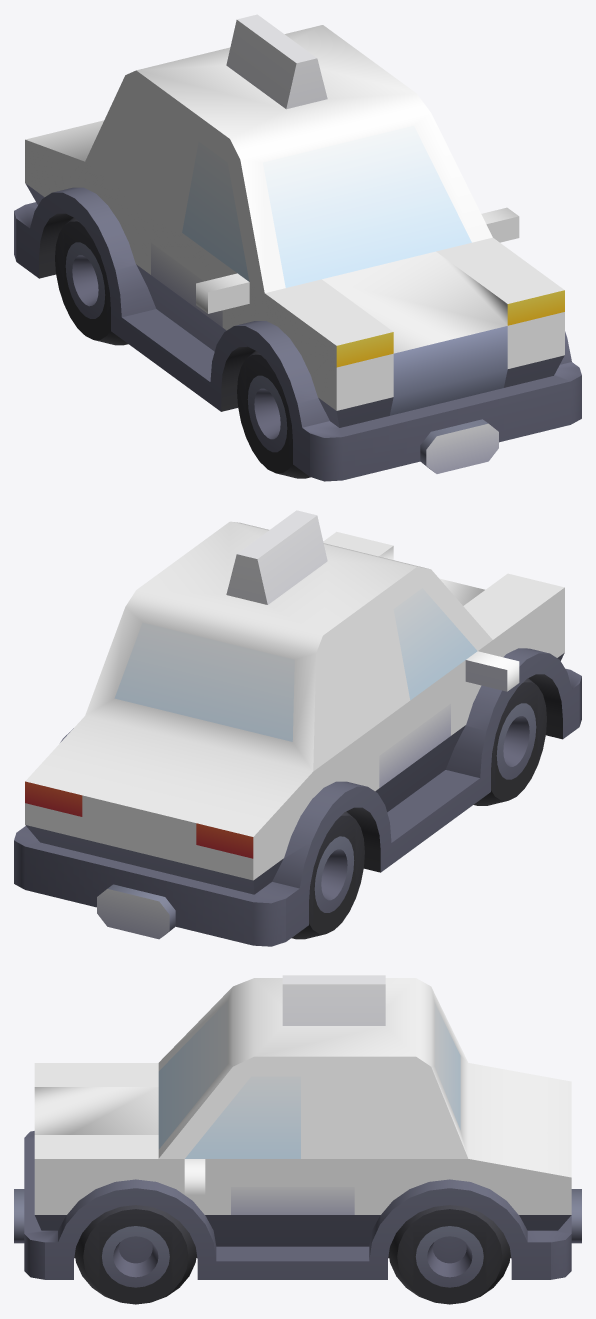
Rendered from taxi.glb.
3 views of the same model, one above another, from view 1: azimuth 30°, elevation 25°; view 2: azimuth 150°, elevation 25°; view 3: azimuth 270°, elevation 25° (orthographic). The views are drawn at different scales.
Parts seen in each view (by area): view 1: body, wheel-front-right, wheel-back-right; view 2: body, wheel-back-right, wheel-front-right; view 3: body, wheel-front-left, wheel-back-left.
Boxes of the visible parts, box(x1,y1,x2,y2) form: body: box(14, 14, 581, 481); wheel-front-right: box(237, 350, 310, 478); wheel-back-right: box(55, 217, 128, 345); body: box(14, 510, 581, 946); wheel-back-right: box(291, 811, 364, 939); wheel-front-right: box(473, 678, 546, 805); body: box(14, 975, 581, 1279); wheel-front-left: box(75, 1205, 196, 1304); wheel-back-left: box(388, 1205, 510, 1304).
Bounding box in the file's own units: 1.5 × 1.5 × 2.75.
Materials: 2 (1 with a texture image).
